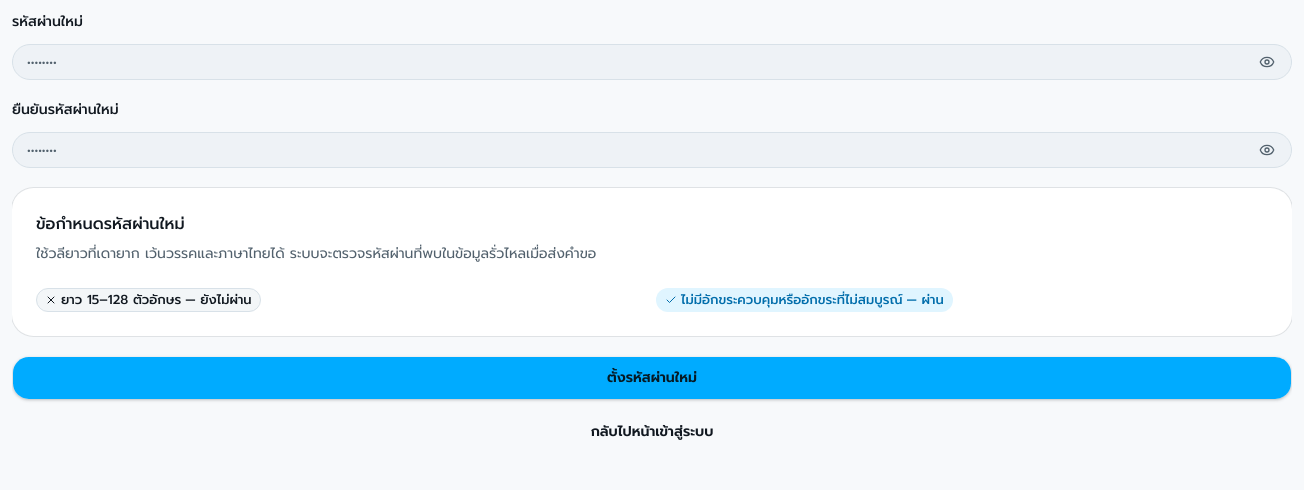
Test case: ResetPasswordForm › shows the password checklist and focuses the first invalid field before sending
Type "alllowercase" into the password field labelled "รหัสผ่านใหม่".
click(632, 62); type("alllowercase")  # box [13, 40, 1251, 84]
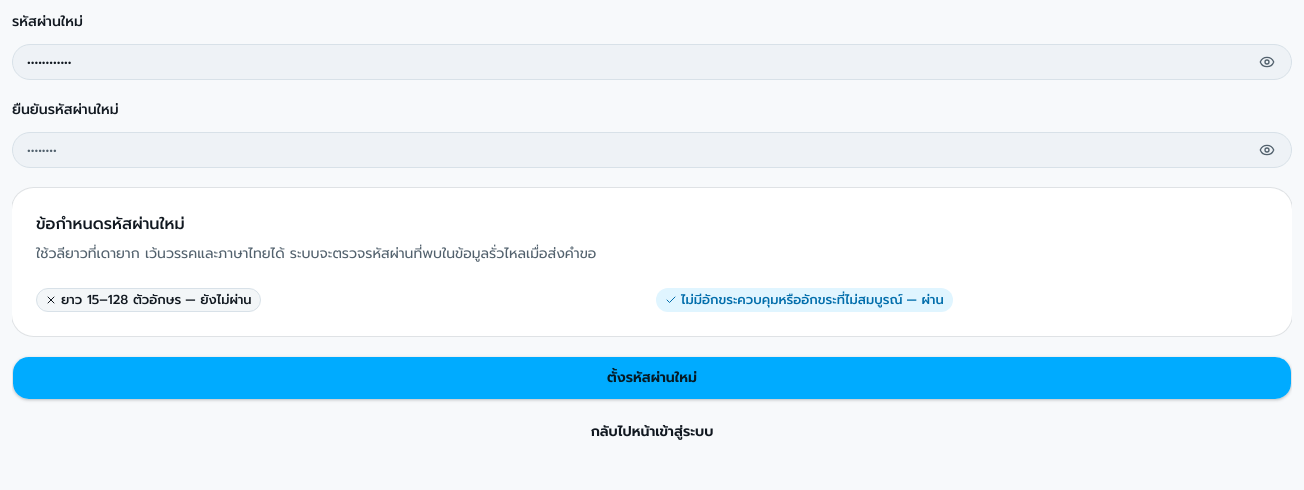
Type "alllowercase" into the password field labelled "ยืนยันรหัสผ่านใหม่".
click(632, 150); type("alllowercase")  # box [13, 128, 1251, 172]
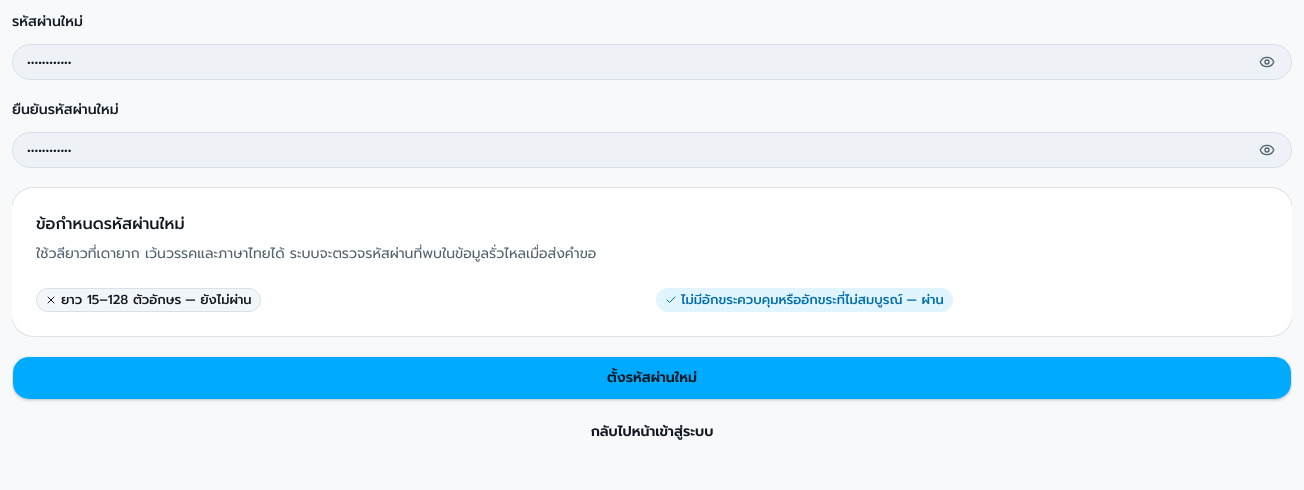
Submit the form labelled "รหัสผ่านใหม่"
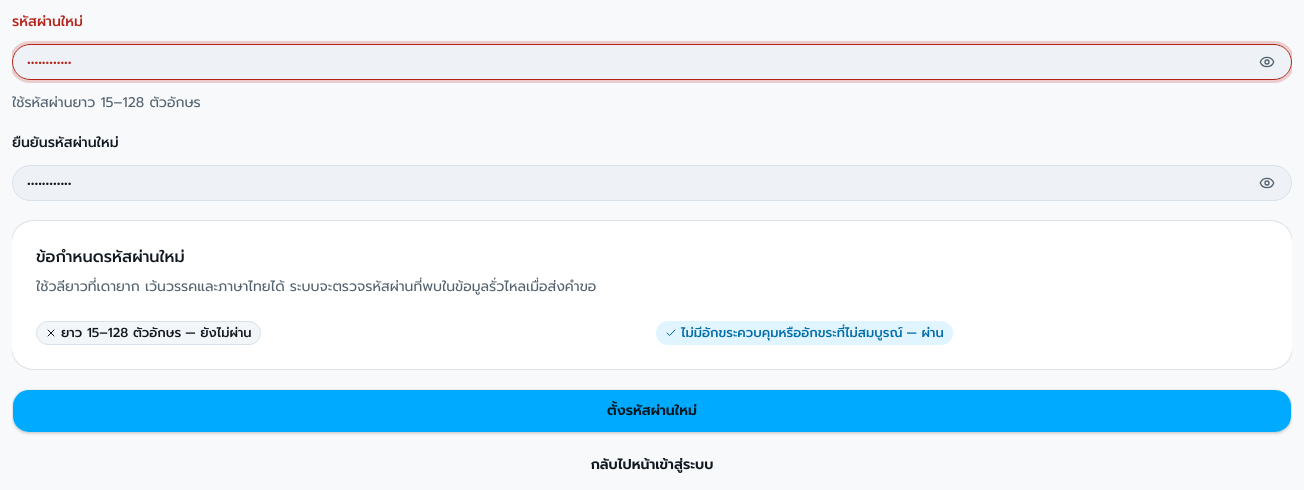
Expected: the text "ยาว 15–128 ตัวอักษร" is shown, [61, 323, 181, 343]
Result: the text "ใช้รหัสผ่านยาว 15–128 ตัวอักษร" is shown at [12, 92, 201, 113]
